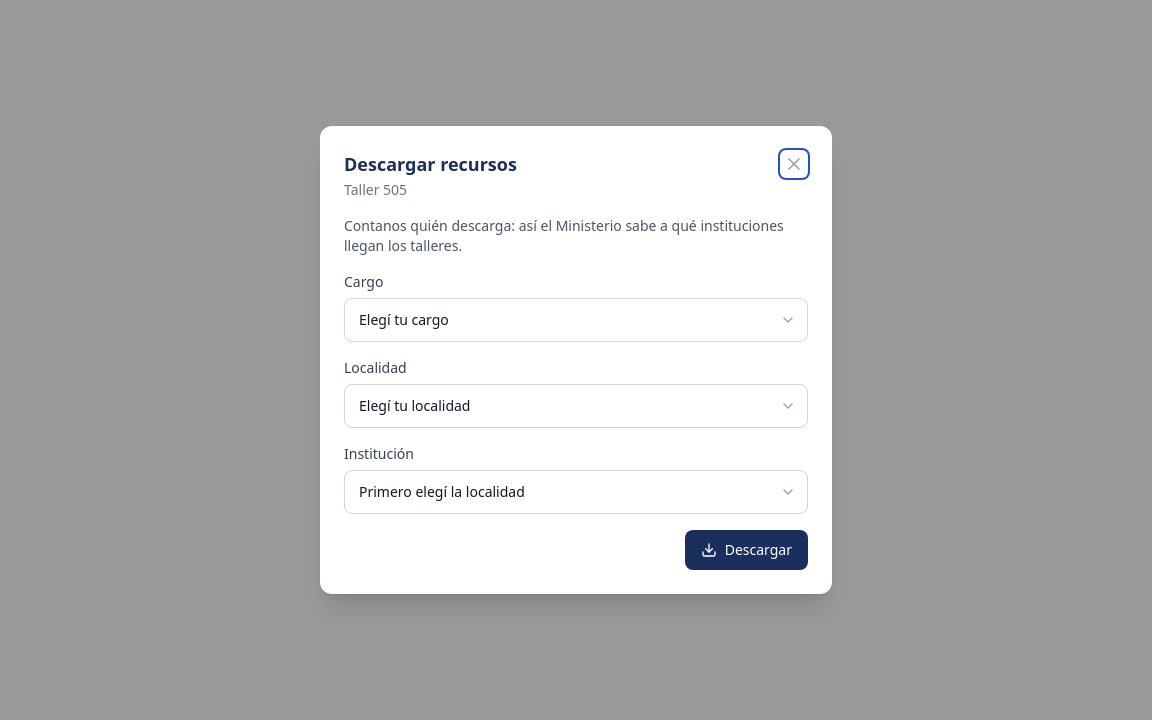
Test: DescargaModal: formulario › con "Otro" y el cargo vacío no envía y marca el error
Select "Otro" in the dropdown labelled "Cargo" at [576, 320], box [344,298,808,342]
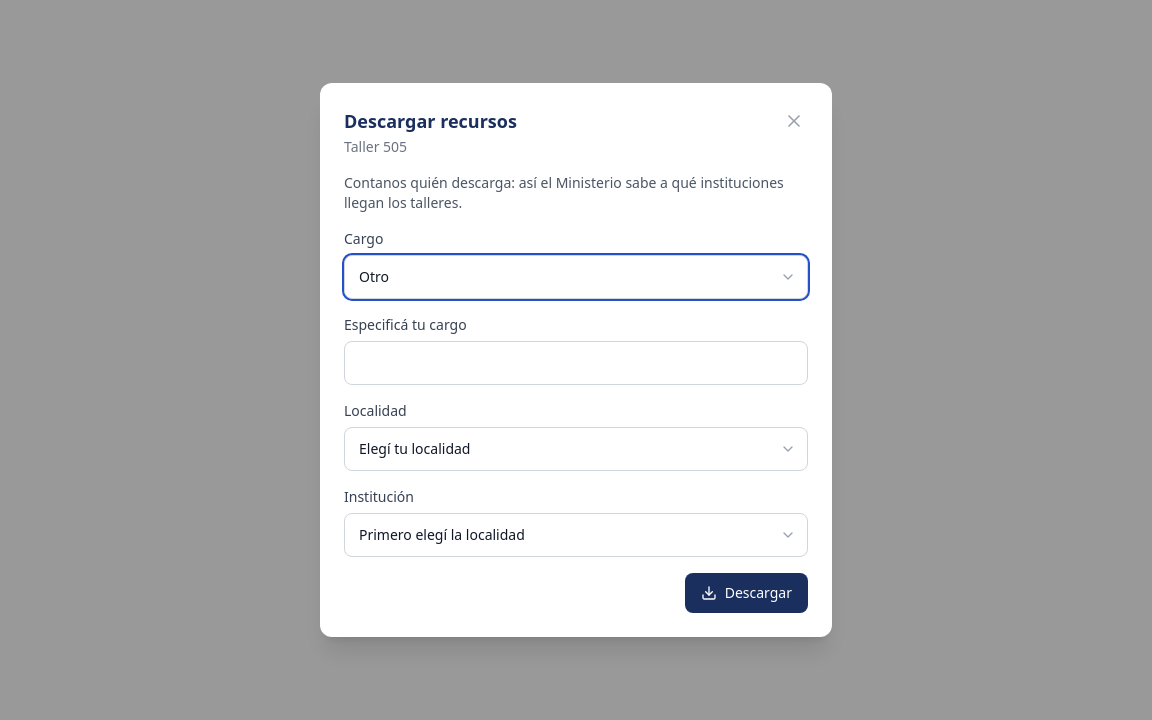
Select "Posadas" in the dropdown labelled "Localidad" at [576, 449], box [344,427,808,471]
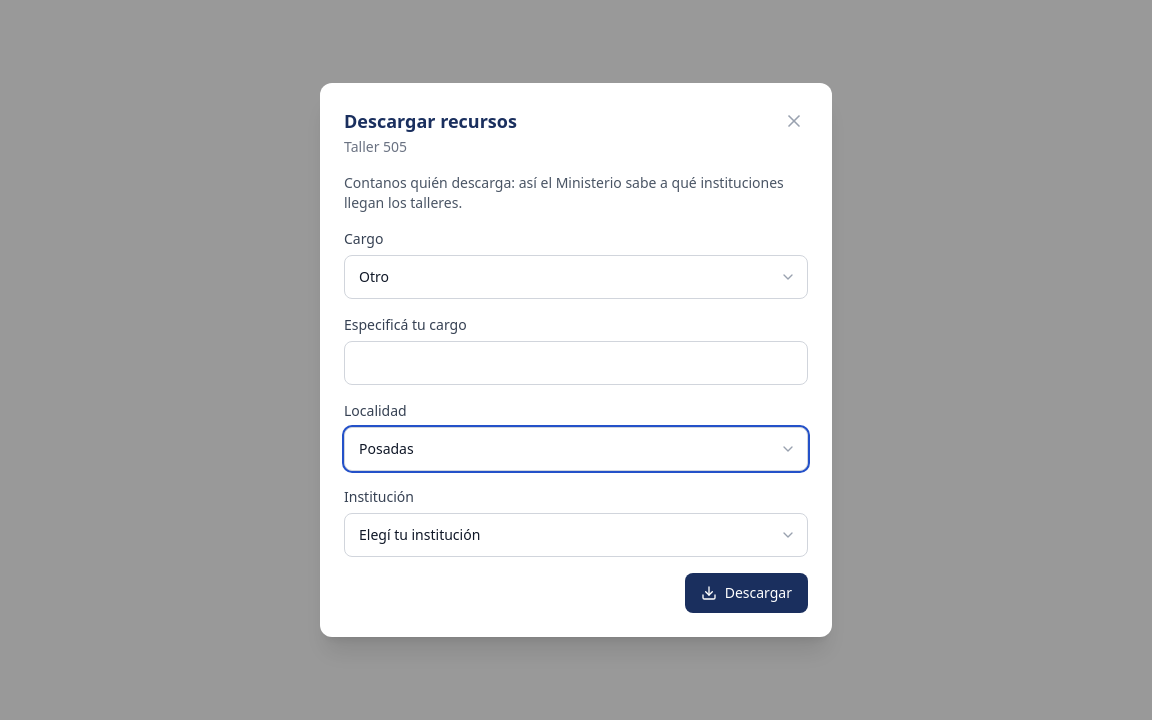
Select "Sin institución" in the dropdown labelled "Institución" at [576, 535], box [344,513,808,557]
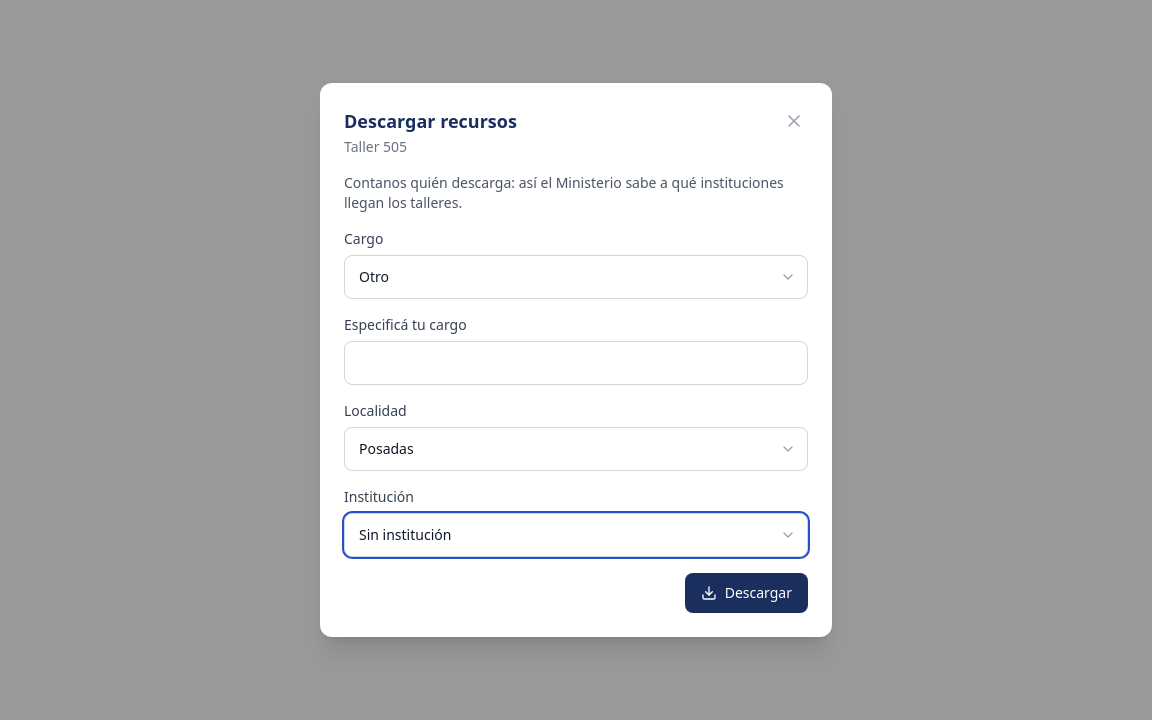
Click the button "Descargar" at [746, 593], box [685,573,808,613]
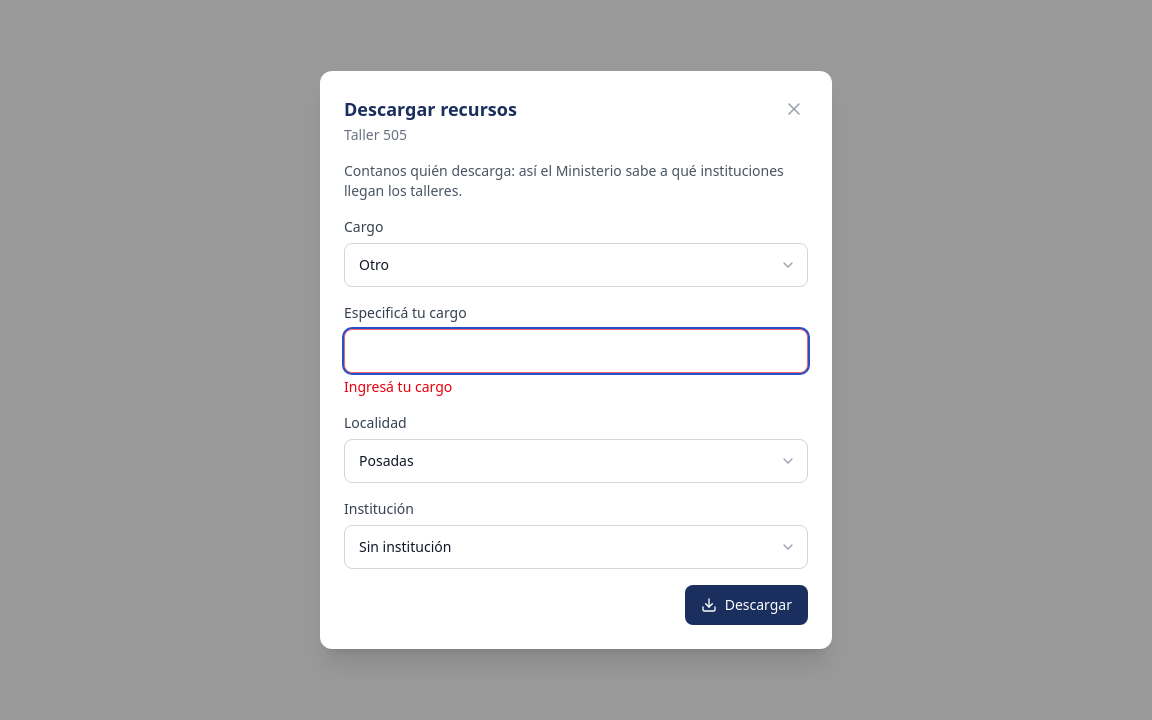
Expected: the message "Ingresá tu cargo" is shown, [344,377,452,396]
